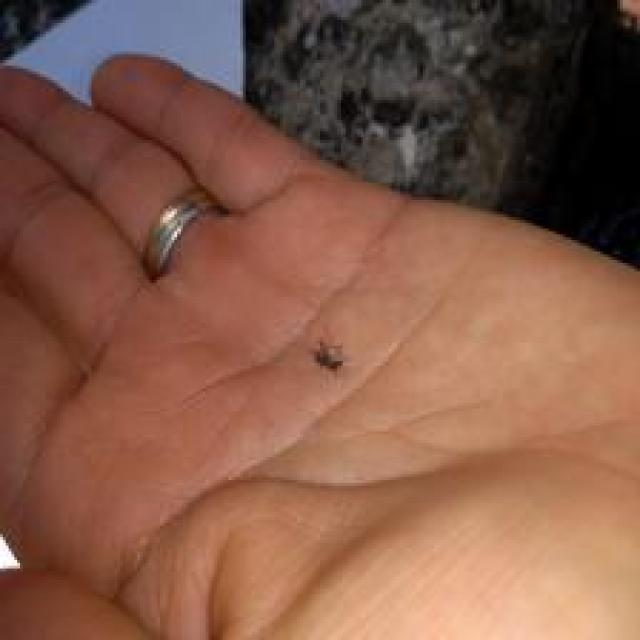Aedes albopictus: (311, 338, 346, 373)
